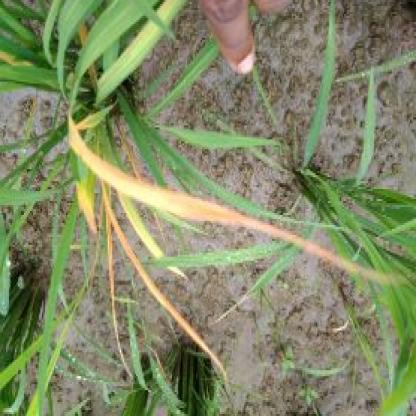Tungro: (70, 125, 321, 241)
